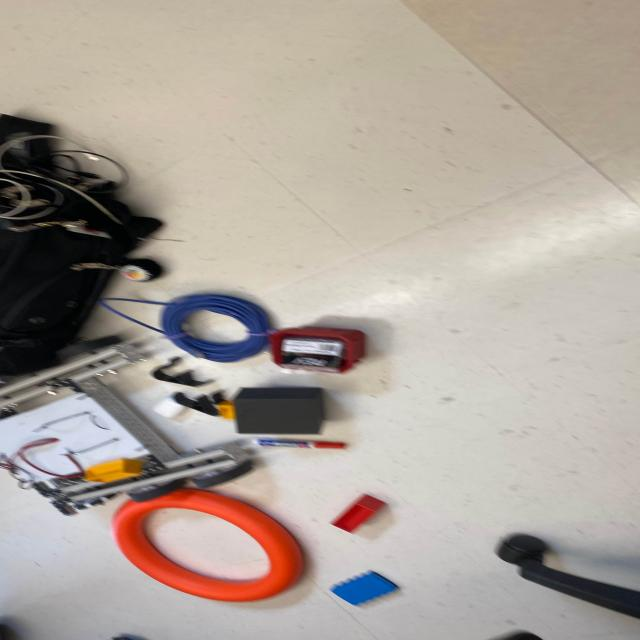red-specimen: (331, 494, 386, 533)
yellow-specimen: (84, 459, 143, 482), (217, 401, 236, 420)
